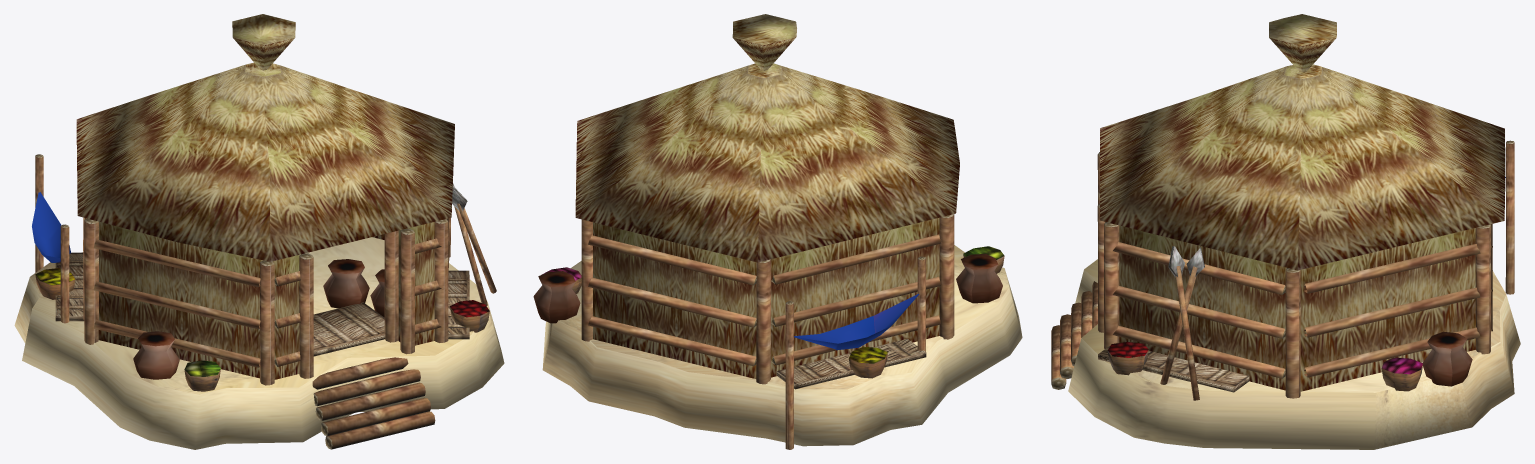
Rendered from house_3.dae.
3 views of the same model, side by side, from view 1: azimuth 30°, elevation 25°; view 2: azimuth 150°, elevation 25°; view 3: azimuth 270°, elevation 25° (orthographic). The views are drawn at different scales.
Parts seen in each view (by area): view 1: house_3; view 2: house_3; view 3: house_3.
Part boxes in pixels (x1,y1,x2,y2): house_3: (14,14,504,449); house_3: (533,14,1022,449); house_3: (1051,14,1520,449).
Bounding box in the file's own units: 12.7 × 12.77 × 10.03.
